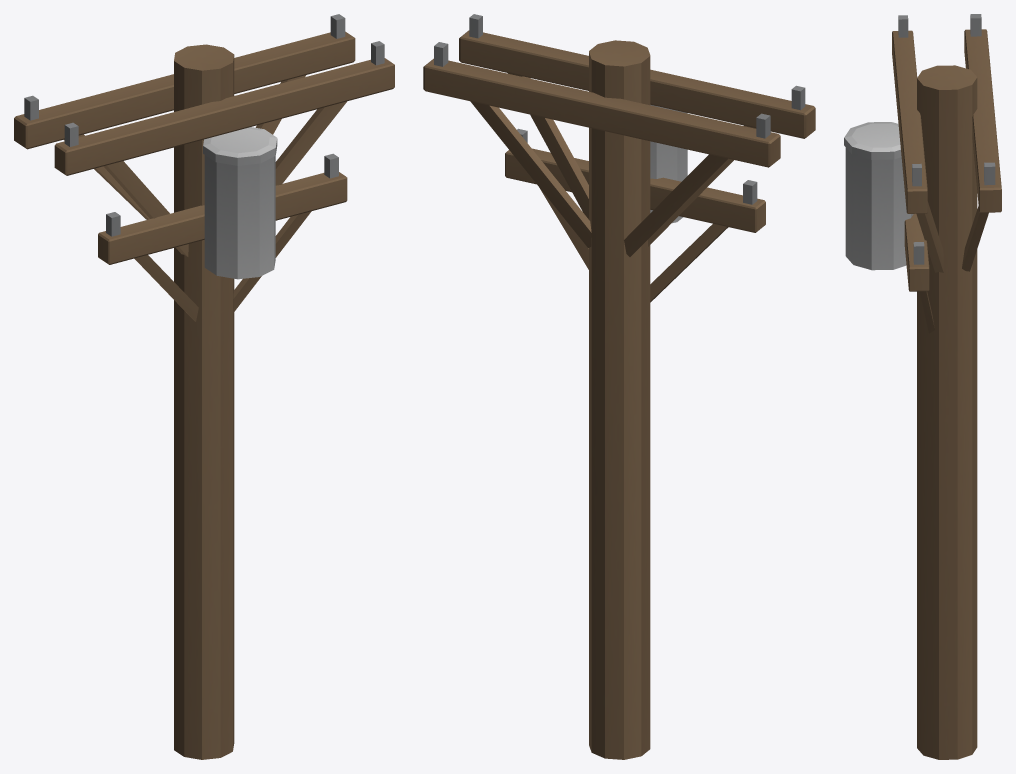
The model's file is electric_pole_1.dae.
3 views of the same model, side by side, from view 1: azimuth 30°, elevation 25°; view 2: azimuth 150°, elevation 25°; view 3: azimuth 270°, elevation 25° (orthographic). The views are drawn at different scales.
Visible parts, largest first — view 1: pole, bar_2, bar_1, capacitator, bar_3, strut_5, strut_3, strut_1, strut_2; view 2: pole, bar_1, bar_2, bar_3, strut_6, strut_4, strut_5, capacitator, strut_1, strut_3; view 3: pole, capacitator, bar_1, bar_2, bar_3, strut_5, strut_6, strut_2.
Boxes of the visible parts, x1,y1,x2,y2 form: pole: [174, 44, 234, 759]; bar_2: [54, 41, 394, 175]; bar_1: [14, 14, 355, 149]; capacitator: [203, 127, 277, 279]; bar_3: [98, 153, 347, 264]; strut_5: [275, 101, 346, 185]; strut_3: [104, 161, 188, 256]; strut_1: [134, 255, 198, 321]; strut_2: [233, 211, 311, 312]; pole: [589, 40, 650, 759]; bar_1: [423, 42, 780, 167]; bar_2: [459, 14, 815, 138]; bar_3: [505, 128, 765, 232]; strut_6: [470, 101, 591, 248]; strut_4: [624, 154, 727, 256]; strut_5: [507, 73, 588, 219]; capacitator: [650, 104, 687, 223]; strut_1: [650, 223, 728, 302]; strut_3: [648, 125, 756, 246]; pole: [917, 65, 977, 759]; capacitator: [844, 122, 913, 270]; bar_1: [964, 14, 1001, 212]; bar_2: [892, 15, 927, 213]; bar_3: [904, 213, 929, 291]; strut_5: [916, 201, 943, 272]; strut_6: [962, 206, 988, 271]; strut_2: [919, 291, 934, 333].
Size of the model in its own units: 3.44 by 1.42 by 6.66.
